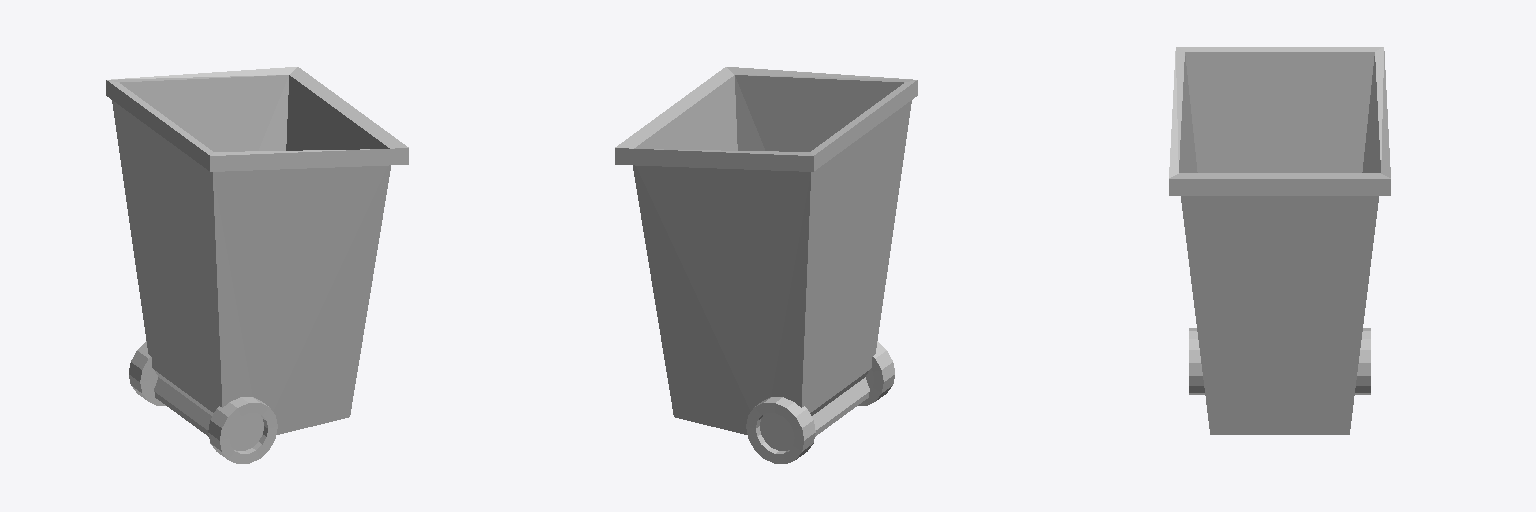
The model's file is garbageBin.obj.
3 views of the same model, side by side, from view 1: azimuth 30°, elevation 25°; view 2: azimuth 150°, elevation 25°; view 3: azimuth 270°, elevation 25° (orthographic).
Visible parts, largest first — view 1: garbagebin; view 2: garbagebin; view 3: garbagebin.
Part boxes in pixels (x1,y1,x2,y2): garbagebin: (106, 67, 408, 463); garbagebin: (615, 67, 917, 463); garbagebin: (1169, 47, 1390, 434).
Bounding box in the file's own units: 27.05 × 42.85 × 26.65.